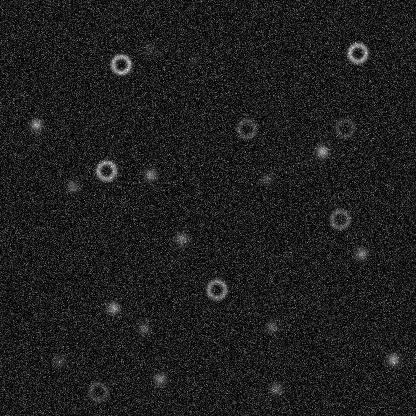Ring: (86, 379, 110, 403), (108, 52, 132, 76), (204, 277, 228, 301), (94, 158, 118, 182), (345, 40, 369, 64), (327, 207, 351, 231), (234, 116, 258, 140), (332, 116, 356, 140)
Spot: (105, 299, 121, 315), (27, 116, 43, 132), (142, 167, 158, 183), (314, 143, 330, 159), (152, 370, 168, 386), (51, 352, 67, 368), (258, 171, 274, 187), (385, 351, 401, 367), (173, 230, 189, 246), (185, 52, 201, 68), (135, 320, 151, 336), (140, 40, 156, 56), (263, 318, 279, 334), (353, 245, 369, 261), (64, 178, 80, 194), (267, 380, 283, 396)
